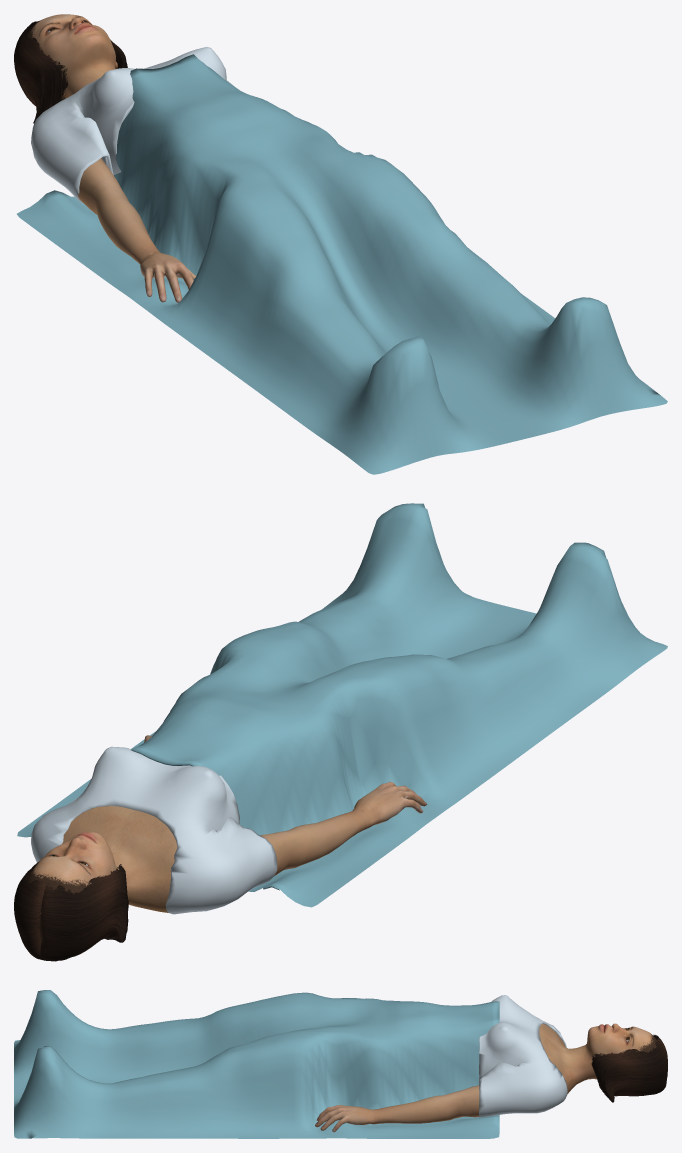
The picture shows the model from 3 angles, top to bottom: view 1: azimuth 30°, elevation 25°; view 2: azimuth 150°, elevation 25°; view 3: azimuth 270°, elevation 25°; orthographic projection. The views are drawn at different scales.
Parts seen in each view (by area): view 1: sheet, gown, arms, body, hair; view 2: sheet, gown, body, hair, arms; view 3: sheet, gown, arms, body, hair.
Boxes of the visible parts, left/top/right/bottom form: sheet: left=17, top=54, right=667, bottom=474; gown: left=31, top=47, right=231, bottom=204; arms: left=78, top=158, right=195, bottom=302; body: left=26, top=14, right=117, bottom=99; hair: left=14, top=20, right=127, bottom=123; sheet: left=17, top=503, right=667, bottom=907; gown: left=31, top=746, right=277, bottom=914; body: left=27, top=805, right=177, bottom=940; hair: left=14, top=861, right=128, bottom=961; arms: left=144, top=735, right=427, bottom=876; sheet: left=14, top=990, right=499, bottom=1138; gown: left=479, top=995, right=567, bottom=1117; arms: left=315, top=1085, right=479, bottom=1132; body: left=539, top=1023, right=657, bottom=1093; hair: left=591, top=1034, right=667, bottom=1102.
Size of the model in its own units: 0.6402 by 0.2409 by 1.79.
8 materials, 6 textured.
